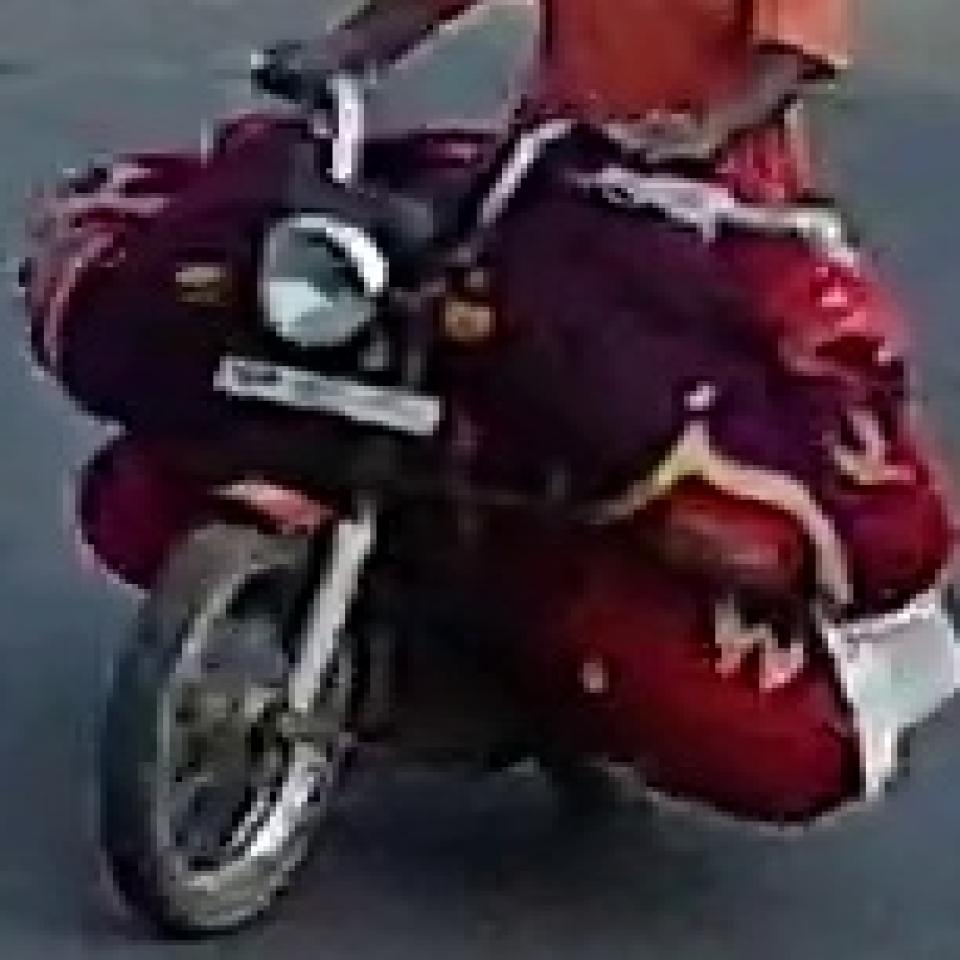head_light: (251, 212, 384, 346)
